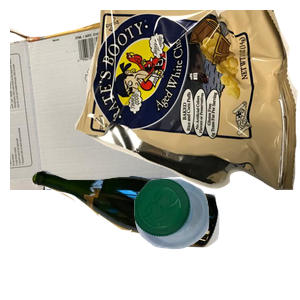cardboard: (10, 10, 191, 190)
glass: (29, 167, 241, 300)
plastic: (132, 176, 300, 300)
trash: (75, 10, 300, 190)
